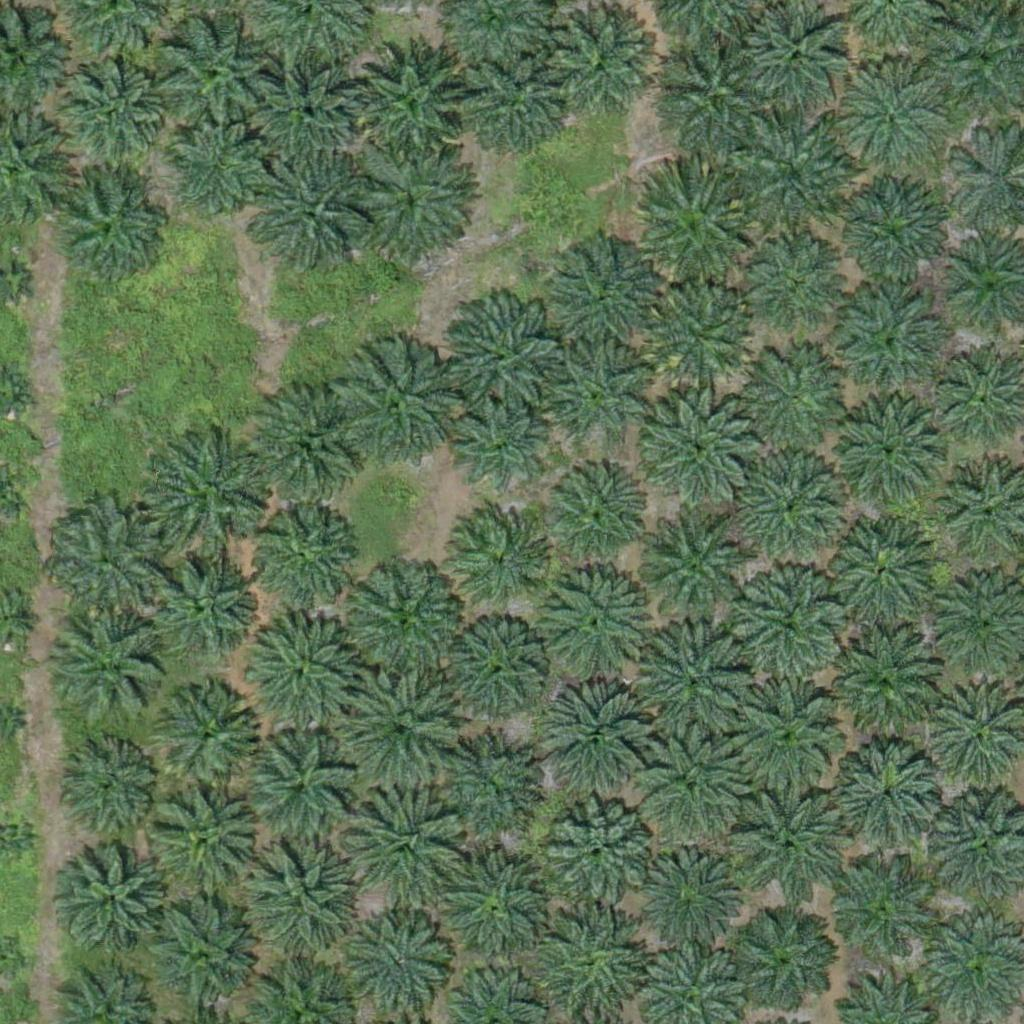Kelapa_Sawit: (148, 15, 273, 141), (248, 151, 373, 277), (347, 36, 472, 162), (351, 140, 476, 266), (438, 294, 563, 420), (332, 347, 457, 473), (149, 432, 274, 558), (339, 665, 464, 791), (341, 555, 466, 681), (236, 833, 361, 959), (343, 781, 468, 907), (631, 169, 756, 294), (49, 52, 162, 166), (162, 114, 275, 228), (251, 386, 364, 500), (53, 171, 166, 284), (454, 44, 567, 157), (741, 1, 854, 114), (837, 181, 950, 294), (827, 392, 940, 505), (645, 388, 758, 501), (642, 515, 755, 628), (636, 628, 749, 741), (535, 562, 648, 675), (635, 736, 748, 849), (729, 679, 842, 792), (241, 613, 354, 726), (240, 730, 353, 843), (733, 794, 846, 907), (629, 839, 742, 952), (536, 684, 648, 798), (147, 902, 259, 1016), (150, 785, 262, 899), (246, 59, 358, 172), (545, 7, 657, 120), (656, 37, 768, 150), (738, 124, 850, 237), (823, 513, 935, 626), (830, 631, 942, 744), (736, 340, 848, 453), (737, 450, 849, 563), (735, 566, 847, 679), (833, 744, 945, 857), (50, 505, 162, 618), (59, 611, 171, 724), (825, 861, 937, 974), (544, 797, 656, 910), (439, 851, 551, 964), (845, 66, 945, 167), (840, 290, 940, 391), (743, 233, 843, 334), (649, 283, 749, 384), (559, 245, 659, 346), (547, 343, 647, 444), (543, 464, 643, 565), (449, 396, 549, 497), (152, 555, 252, 656), (158, 683, 258, 784), (735, 911, 835, 1012), (354, 919, 454, 1020), (447, 511, 547, 611), (445, 620, 545, 720), (430, 743, 530, 843), (251, 504, 351, 604), (63, 849, 163, 949), (68, 745, 155, 833)
